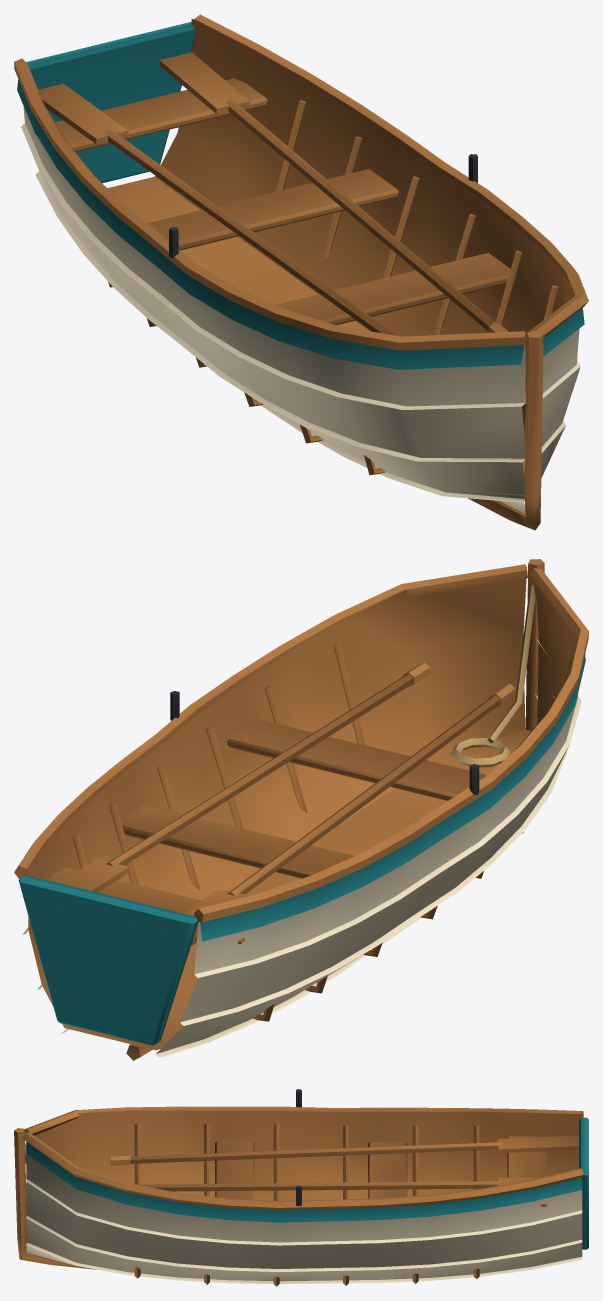
File: rowboat.glb
3 views of the same model, one above another, from view 1: azimuth 30°, elevation 25°; view 2: azimuth 150°, elevation 25°; view 3: azimuth 270°, elevation 25° (orthographic). The views are drawn at different scales.
Visible parts, largest first — view 1: rowboat Boat wood, rowboat Boat paint, rowboat Boat trim; view 2: rowboat Boat wood, rowboat Boat paint, rowboat Boat trim, rowboat Rope; view 3: rowboat Boat wood, rowboat Boat paint, rowboat Boat trim.
Boxes of the visible parts, box(x1,y1,x2,y2) form: rowboat Boat wood: box(14, 14, 588, 530); rowboat Boat paint: box(21, 106, 580, 513); rowboat Boat trim: box(17, 21, 584, 369); rowboat Boat wood: box(14, 559, 588, 1060); rowboat Boat paint: box(22, 638, 581, 1057); rowboat Boat trim: box(18, 654, 585, 1045); rowboat Rope: box(451, 584, 535, 767); rowboat Boat wood: box(14, 1106, 583, 1286); rowboat Boat paint: box(26, 1154, 582, 1284); rowboat Boat trim: box(26, 1117, 588, 1249).
Bounding box in the file's own units: 1.42 × 0.9691 × 3.47.
